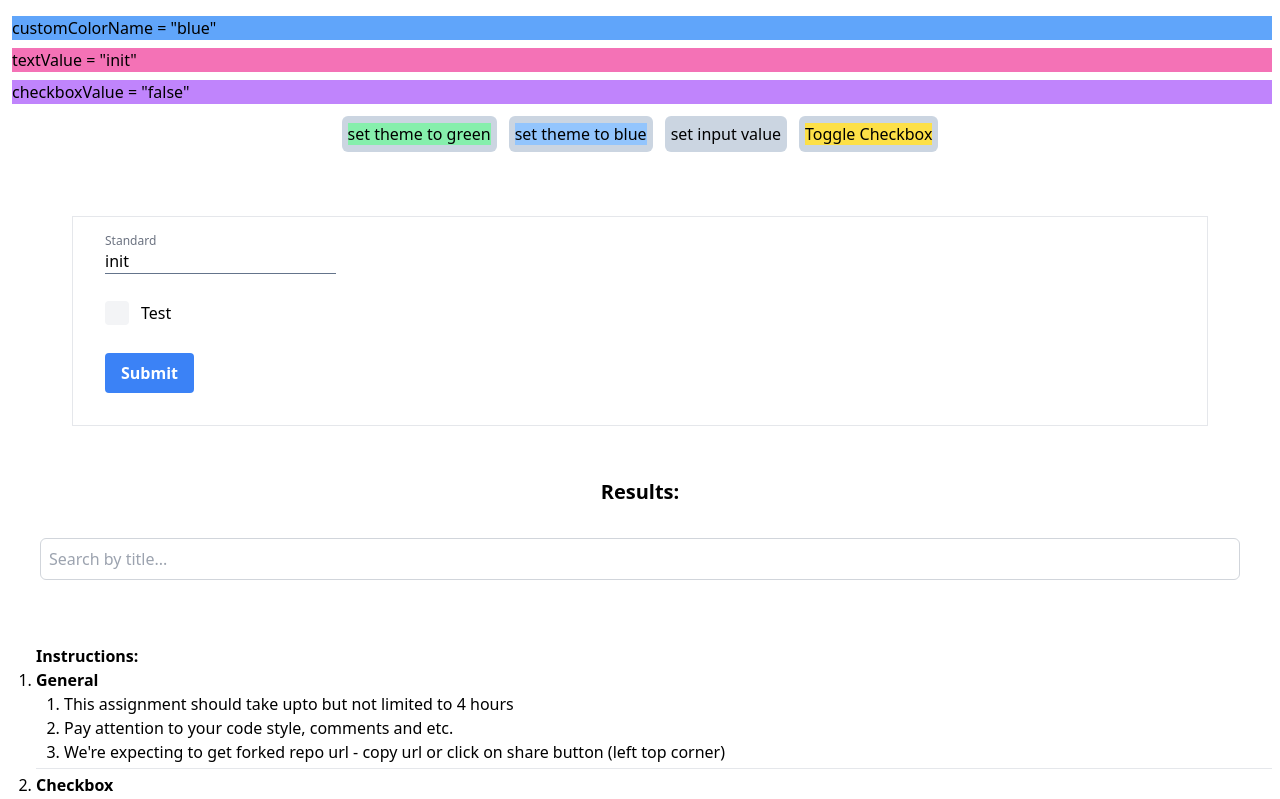
Test case: HomePage component › changes input value on button click
The image size is (1280, 799).
Click the button "set input value". click: point(726, 134)
box: x1=665 y1=116 x2=787 y2=152
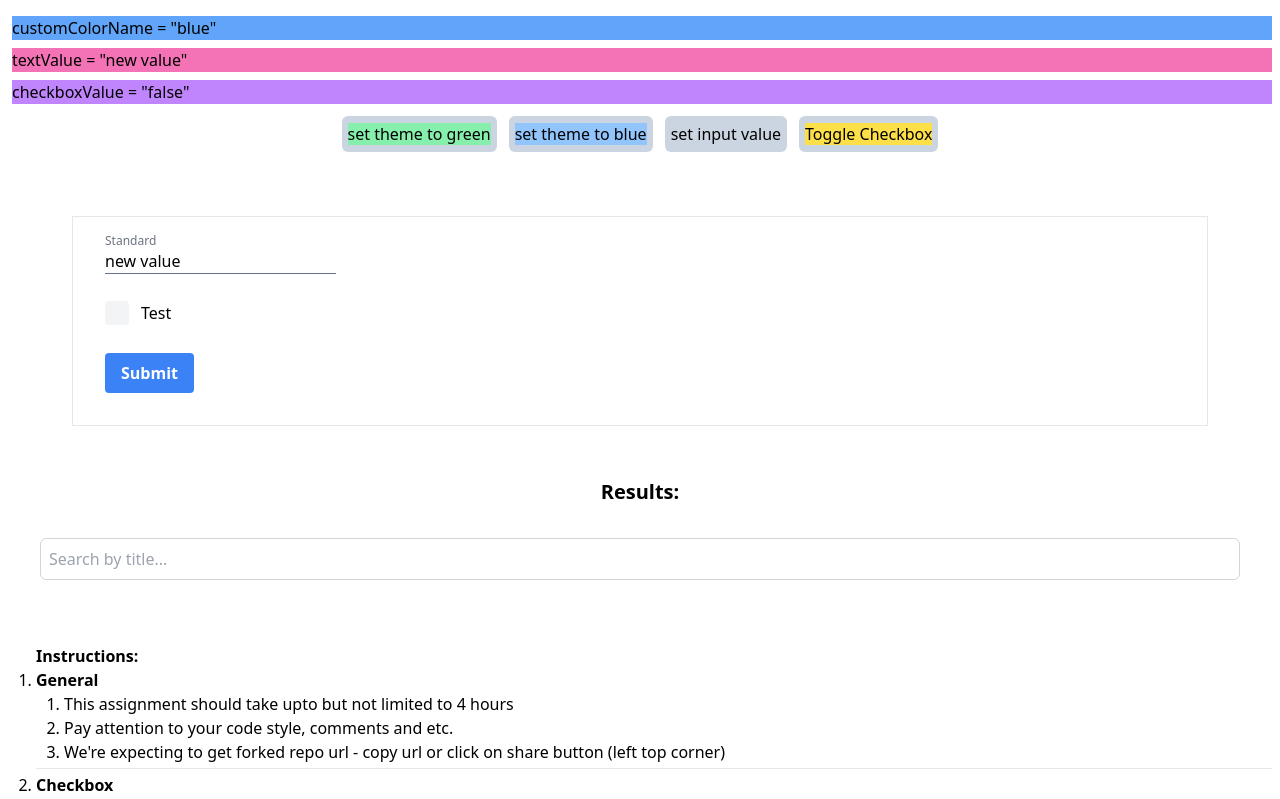
expect the text "textValue = \"new value\"" is shown: met, box x1=12 y1=48 x2=1272 y2=72
